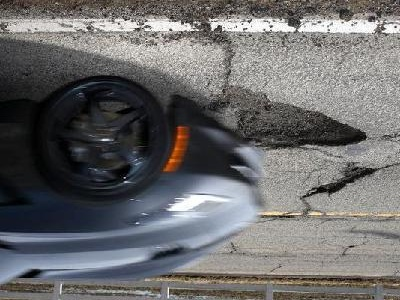pothole: (204, 84, 368, 151), (309, 164, 377, 198)
